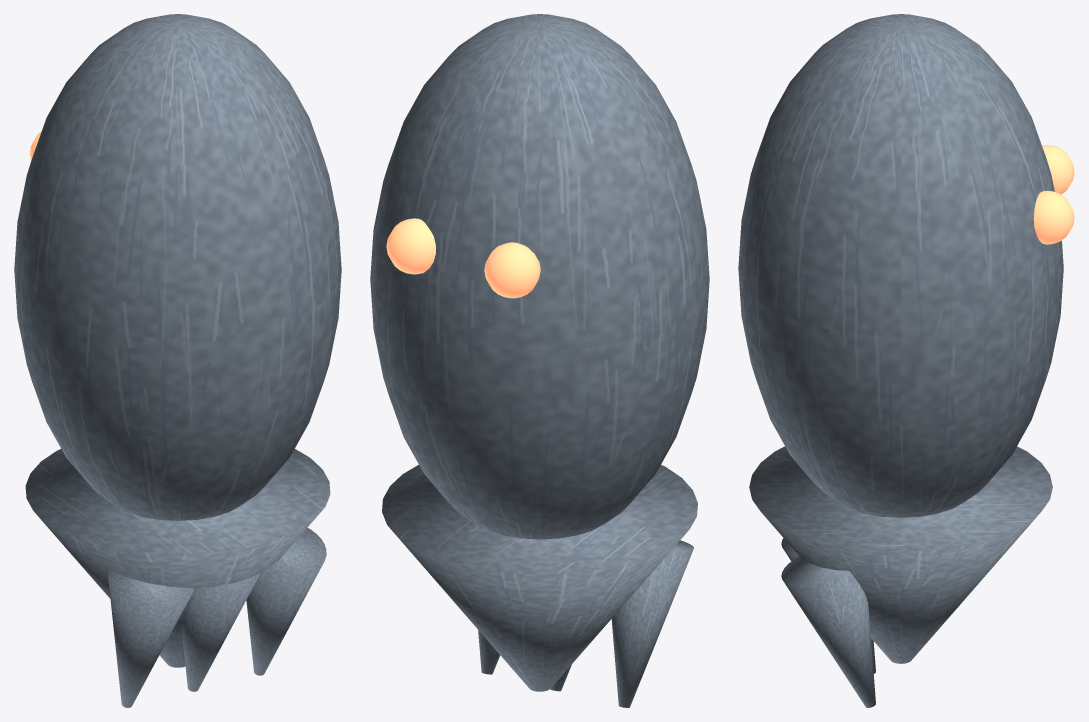
File: sluagh.glb
3 views of the same model, side by side, from view 1: azimuth 30°, elevation 25°; view 2: azimuth 150°, elevation 25°; view 3: azimuth 270°, elevation 25° (orthographic). The views are drawn at different scales.
Parts seen in each view (by area): view 1: Body, Tail, Tatter, Tatter.002, Tatter.001; view 2: Body, Tail, Tatter, Eye, Eye.001, Tatter.002; view 3: Body, Tail, Tatter.002, Eye.001, Eye.
Boxes of the visible parts, x1,y1,x2,y2 form: Body: (14,14,341,520); Tail: (25,449,330,667); Tatter: (108,570,193,707); Tatter.002: (246,528,326,675); Tatter.001: (182,573,259,691); Body: (370,14,709,539); Tail: (382,465,697,691); Tatter: (611,540,693,707); Eye: (484,242,540,298); Eye.001: (386,218,435,274); Tatter.002: (478,630,500,674); Body: (738,14,1063,517); Tail: (749,446,1052,663); Tatter.002: (781,556,875,707); Eye.001: (1033,190,1074,244); Eye: (1042,145,1074,194).
Size of the model in its own units: 0.4455 by 0.9846 by 0.4603.
2 materials, 1 textured.
